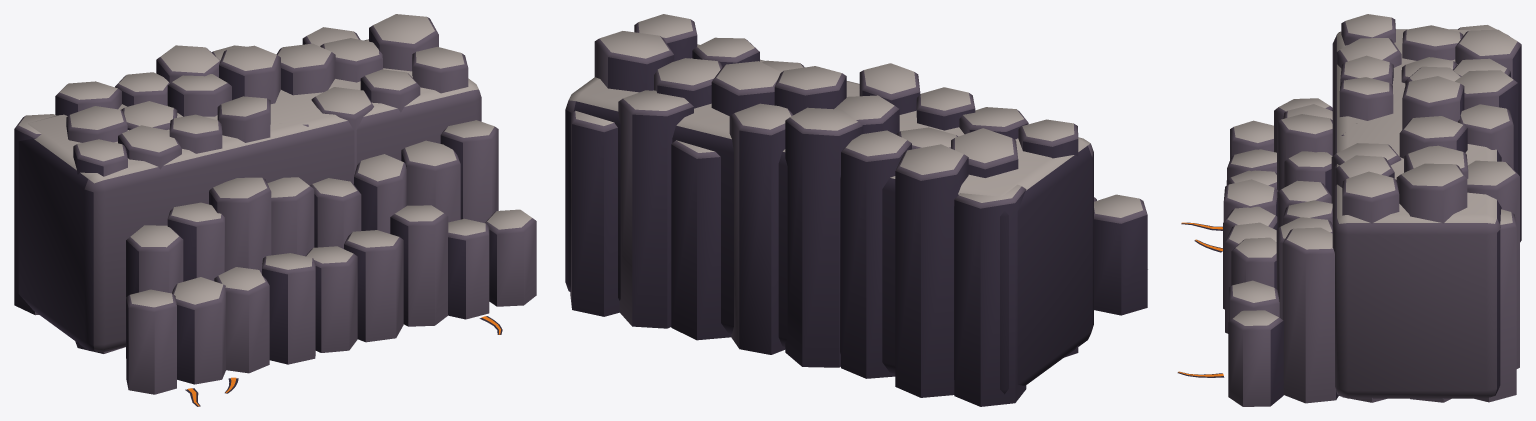
File: BasaltRimA.fbx
3 views of the same model, side by side, from view 1: azimuth 30°, elevation 25°; view 2: azimuth 150°, elevation 25°; view 3: azimuth 270°, elevation 25° (orthographic). The views are drawn at different scales.
Parts seen in each view (by area): view 1: BasaltRimA; view 2: BasaltRimA; view 3: BasaltRimA.
Part boxes in pixels (x1,y1,x2,y2): BasaltRimA: [14, 14, 536, 406]; BasaltRimA: [565, 14, 1147, 406]; BasaltRimA: [1177, 14, 1521, 406].
Bounding box in the file's own units: 7.74 × 3.99 × 5.61.
2 materials, 2 textured.
